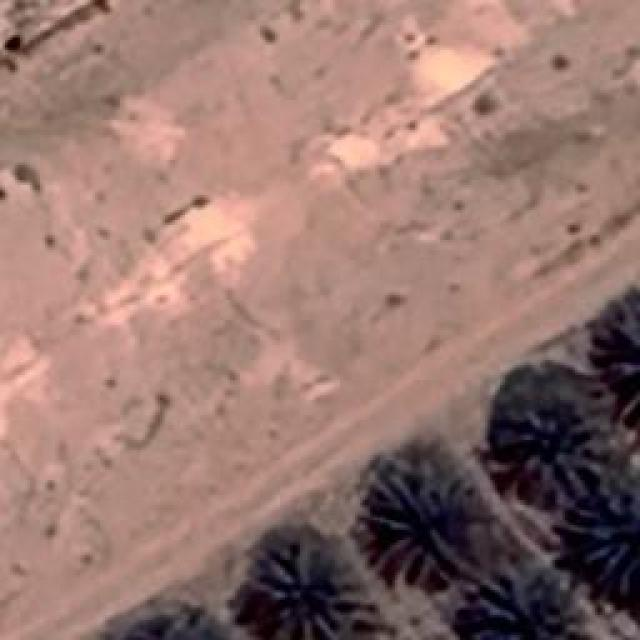PalmTree: (124, 32, 618, 358), (45, 105, 174, 624), (362, 468, 468, 588), (250, 544, 372, 638), (465, 562, 590, 636), (500, 402, 602, 490), (574, 480, 638, 590)
